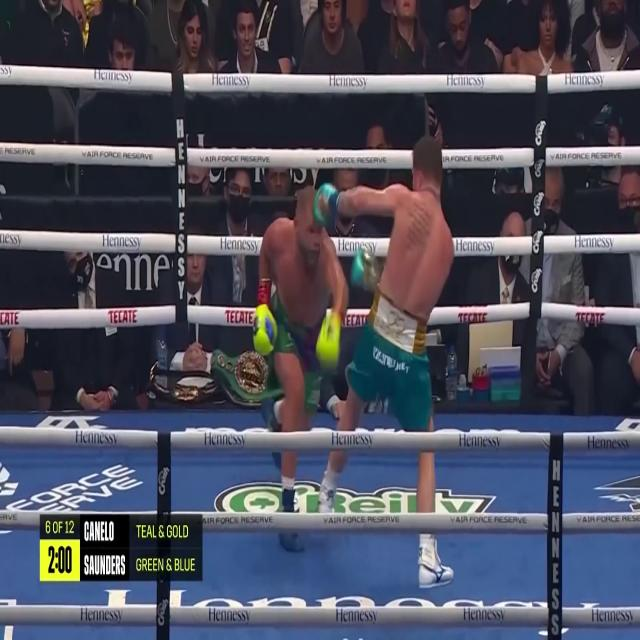boxer_1: (273, 187, 329, 325)
boxer_2: (379, 136, 453, 319)
gloves_1: (252, 280, 278, 356), (316, 308, 342, 370)
gloves_2: (313, 183, 339, 236), (351, 246, 379, 290)
